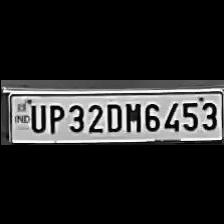2: (85, 100, 103, 132)
3: (64, 100, 84, 132), (199, 97, 217, 130)
4: (160, 98, 180, 130)
5: (178, 97, 198, 130)
6: (140, 99, 160, 131)
D: (104, 100, 122, 132)
M: (122, 100, 142, 132)
P: (43, 100, 63, 134)
U: (26, 100, 44, 132)
